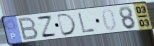0: (100, 8, 118, 32)
8: (118, 5, 137, 31)
B: (18, 16, 40, 42)
D: (57, 12, 79, 37)
L: (76, 12, 96, 34)
Z: (36, 15, 59, 39)
